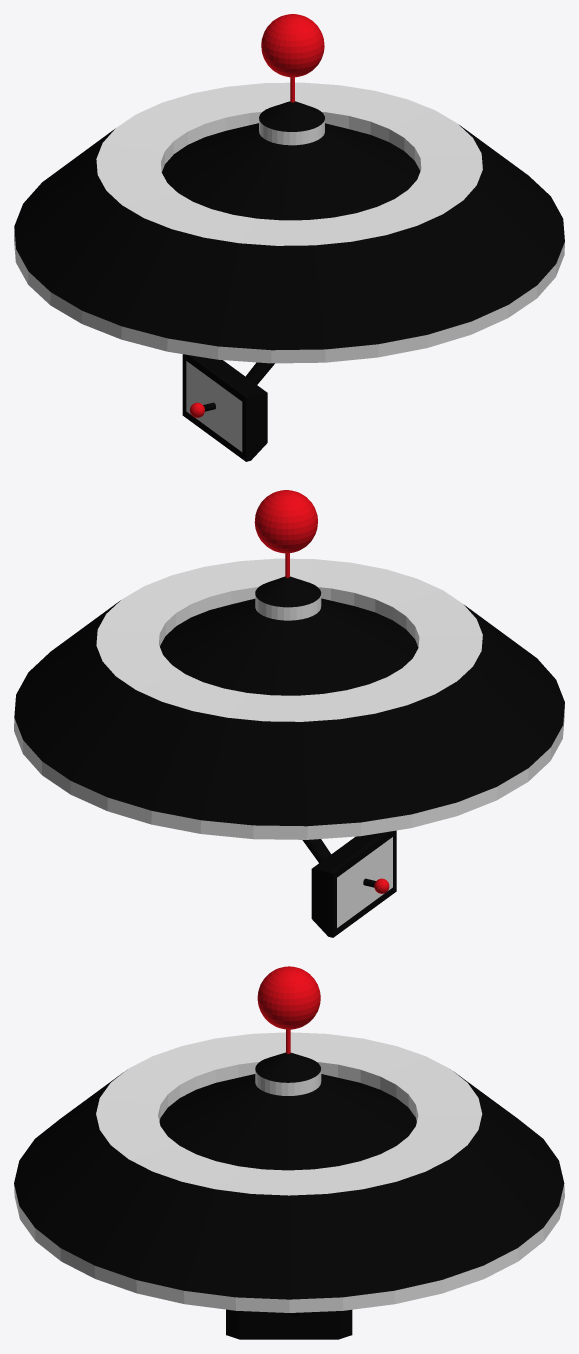
File: enemigo_volador1.fbx
The picture shows the model from 3 angles, top to bottom: view 1: azimuth 30°, elevation 25°; view 2: azimuth 150°, elevation 25°; view 3: azimuth 270°, elevation 25°; orthographic projection.
Visible parts, largest first — view 1: Círculo; view 2: Círculo; view 3: Círculo.
Boxes of the visible parts, left/top/right/bottom form: Círculo: left=14, top=14, right=564, bottom=461; Círculo: left=14, top=490, right=564, bottom=937; Círculo: left=14, top=966, right=564, bottom=1339.
Bounding box in the file's own units: 194 × 156 × 194.
